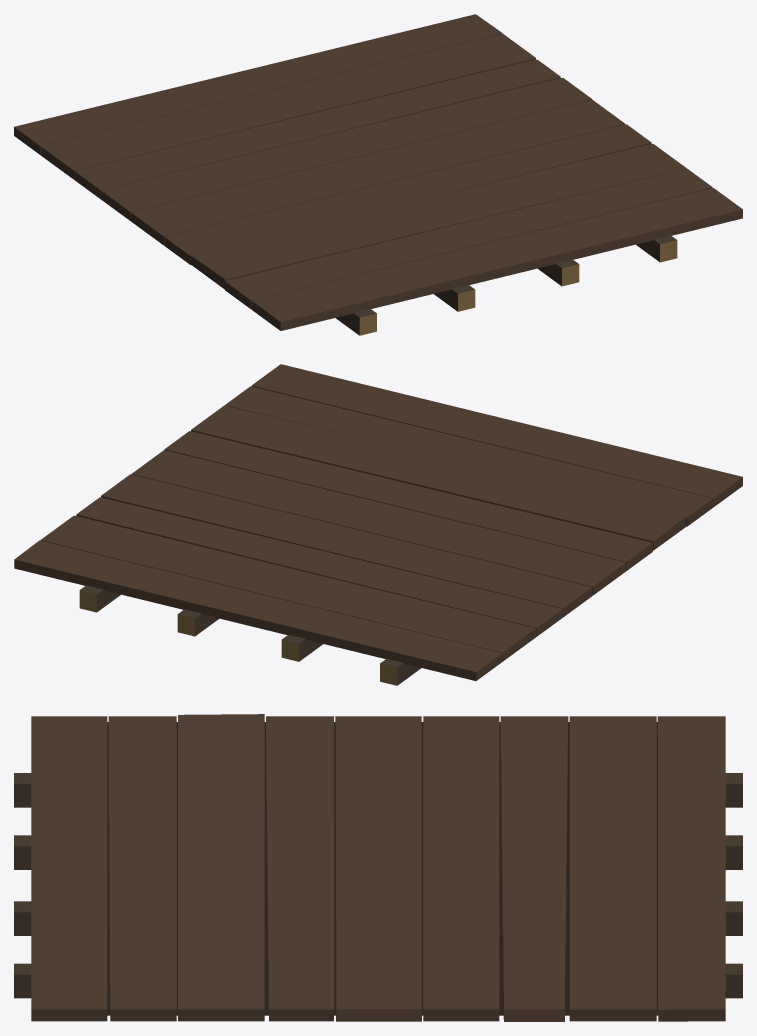
The model's file is Floor_1B_4m.fbx.
The picture shows the model from 3 angles, top to bottom: view 1: azimuth 30°, elevation 25°; view 2: azimuth 150°, elevation 25°; view 3: azimuth 270°, elevation 25°; orthographic projection. The views are drawn at different scales.
Parts seen in each view (by area): view 1: pCube2406; view 2: pCube2406; view 3: pCube2406.
Part boxes in pixels (bbox=[...]): pCube2406: bbox=[14, 14, 742, 335]; pCube2406: bbox=[14, 364, 742, 685]; pCube2406: bbox=[14, 714, 742, 1021].
Bounding box in the file's own units: 401 × 23 × 420.
